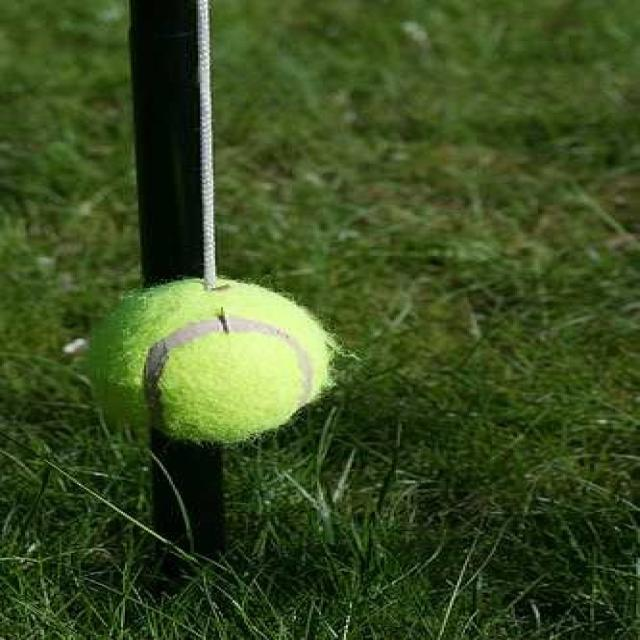Tennis_Ball: (86, 282, 326, 442)
